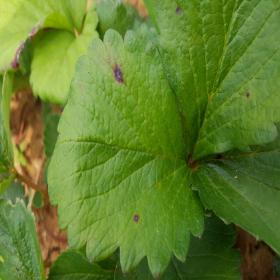Leaf Spot: (47, 29, 205, 279), (143, 0, 279, 164), (190, 137, 279, 257)
